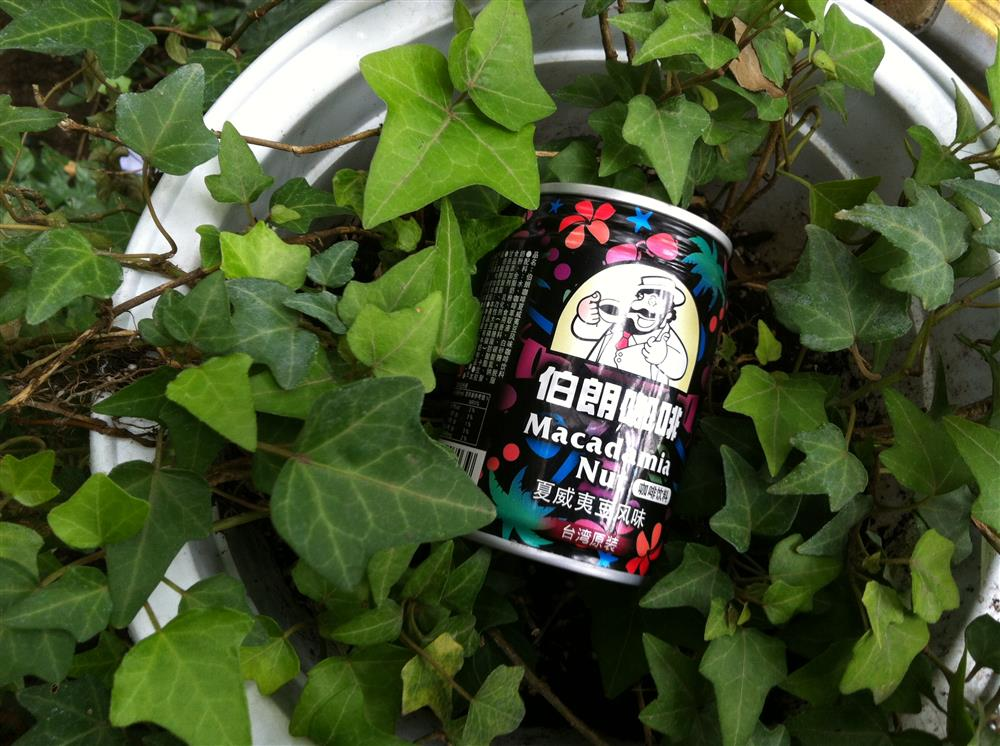mrbrown_coffee: (441, 182, 734, 583)
